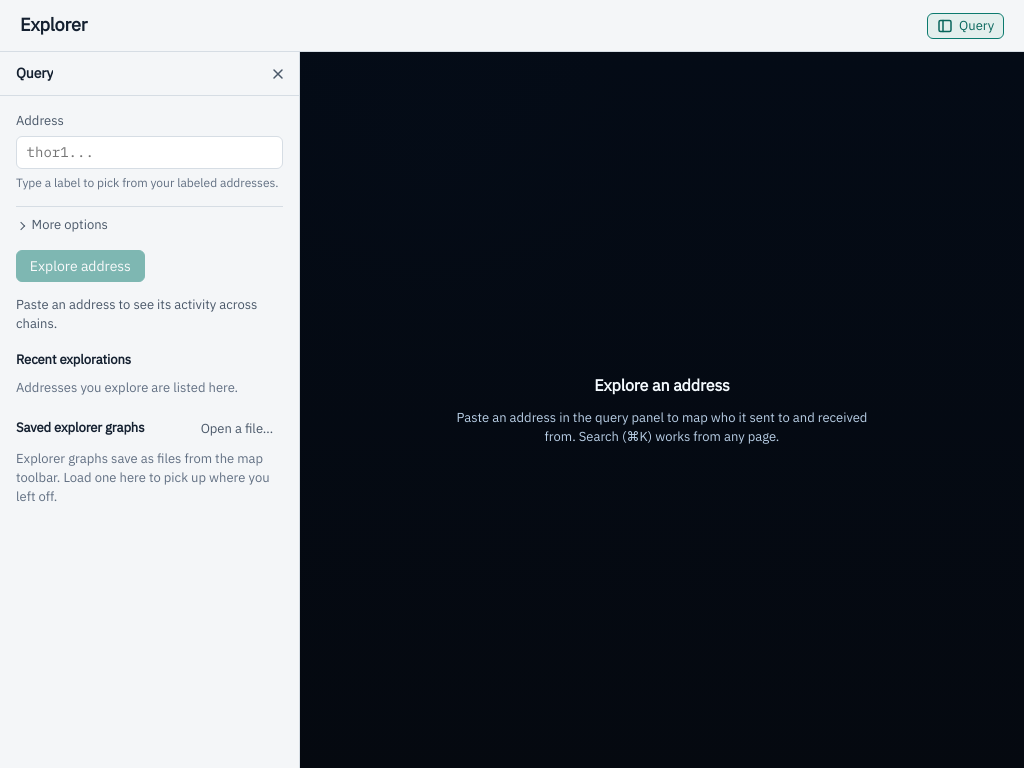
Test: ExplorerPage › suggests labeled addresses and names what the typed address is
Type "thor1qqqqqqqqqqqqqqqqqqqqqqqqqqqqqqqqqqqqqq" into the field with placeholder "thor1...".
click(150, 152); type("thor1qqqqqqqqqqqqqqqqqqqqqqqqqqqqqqqqqqqqqq")  # box top-left (16, 136), bottom-right (283, 169)
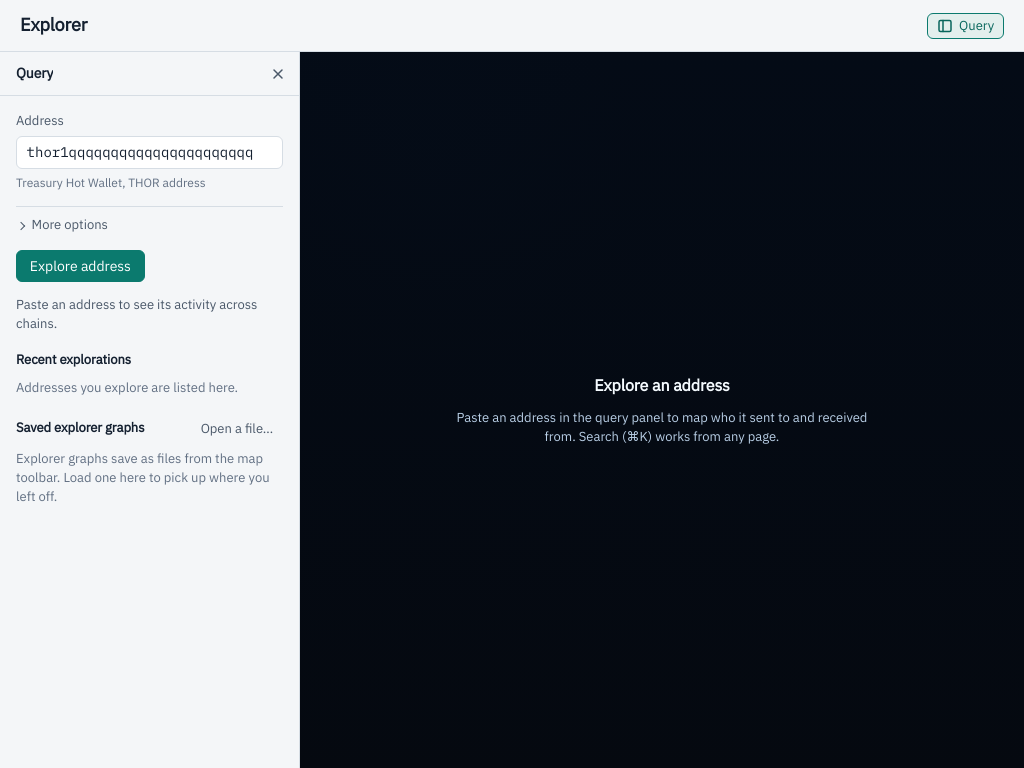
Result: the text "Treasury Hot Wallet, THOR address" is shown at top-left (16, 175), bottom-right (206, 190)
